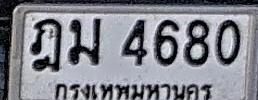0: (216, 19, 240, 65)
4: (122, 19, 147, 65)
6: (154, 18, 179, 66)
8: (184, 19, 209, 66)
A14: (30, 18, 62, 72)
A33: (68, 17, 101, 65)
BKK: (54, 80, 215, 100)
